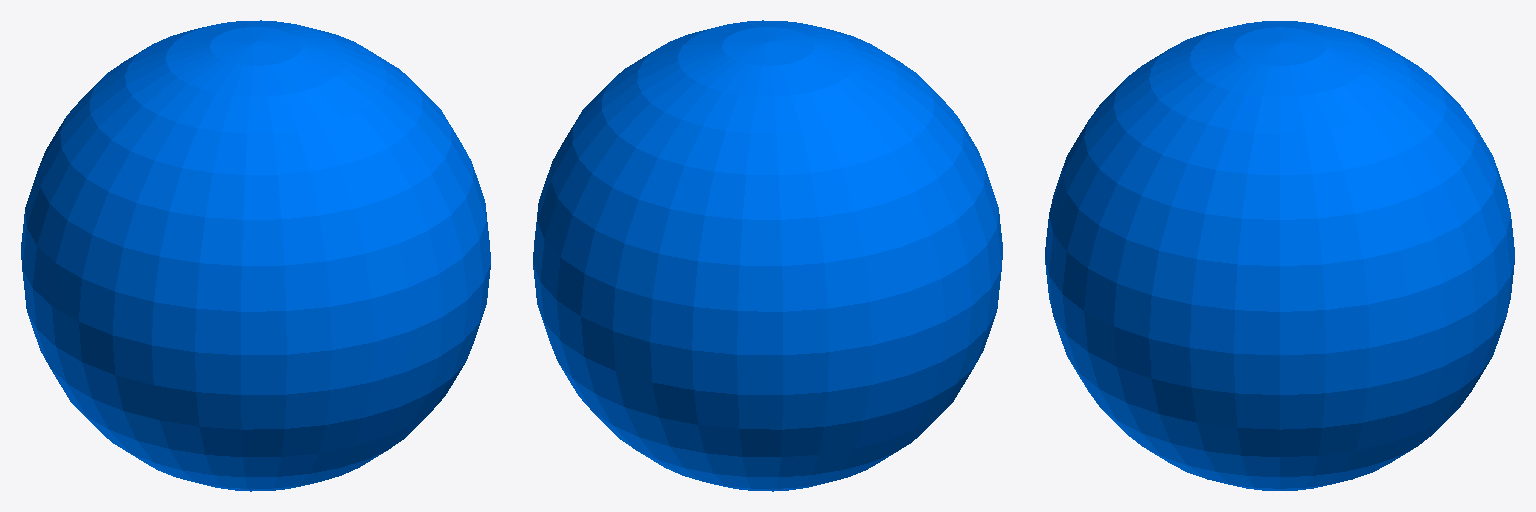
The robot description file, URDF, robot "goal":
<?xml version='1.0'?>
<robot name="goal">

<link name="world" />
<joint name="world_joint"  type="fixed">
    <origin xyz="5 -4 -0.75" rpy="0 0 0" />
    <parent link="world"/>
    <child link="goal_base_link"/>
</joint>

  <!-- Base Link -->
  <link name="goal_base_link">

    <!-- Caster -->
    <visual name="goal">
      <origin xyz="0.2 0 -0.125" rpy="0 0 0" />
      <geometry>
        <sphere radius="0.5" />
      </geometry>
      <material name="blue">
        <color rgba="0 0.5 1 1"/>
      </material>
    </visual>
    <!-- Caster collision, mass and inertia -->
    <collision>
      <origin xyz="0.2 0 -0.125" rpy="0 0 0" />
      <geometry>
        <sphere radius="0.05" />
      </geometry>
    </collision>
    <inertial>
      <mass value="0.5"/>
      <inertia ixx="0.0001" ixy="0.0" ixz="0.0" iyy="0.0001" iyz="0.0" izz="0.0001"/>
    </inertial>
    <gazebo>
      <static>true</static>
    </gazebo>

  </link>

</robot>

--- Render facts (derived) ---
The picture shows the robot from 3 angles, left to right: view 1: azimuth 30°, elevation 25°; view 2: azimuth 150°, elevation 25°; view 3: azimuth 270°, elevation 25°; orthographic projection.
Robot: goal — 2 links, 1 joints (1 fixed); root link world; default pose: every joint at zero.
Links seen in each view (by area): view 1: goal_base_link; view 2: goal_base_link; view 3: goal_base_link.
Boxes of the visible links, left/top/right/bottom form: goal_base_link: left=21, top=20, right=490, bottom=491; goal_base_link: left=533, top=20, right=1002, bottom=491; goal_base_link: left=1045, top=21, right=1514, bottom=490.
Size in the robot's own frame: 1 by 1 by 1 metres.
Geometry: primitives only (box / cylinder / sphere), no mesh files.